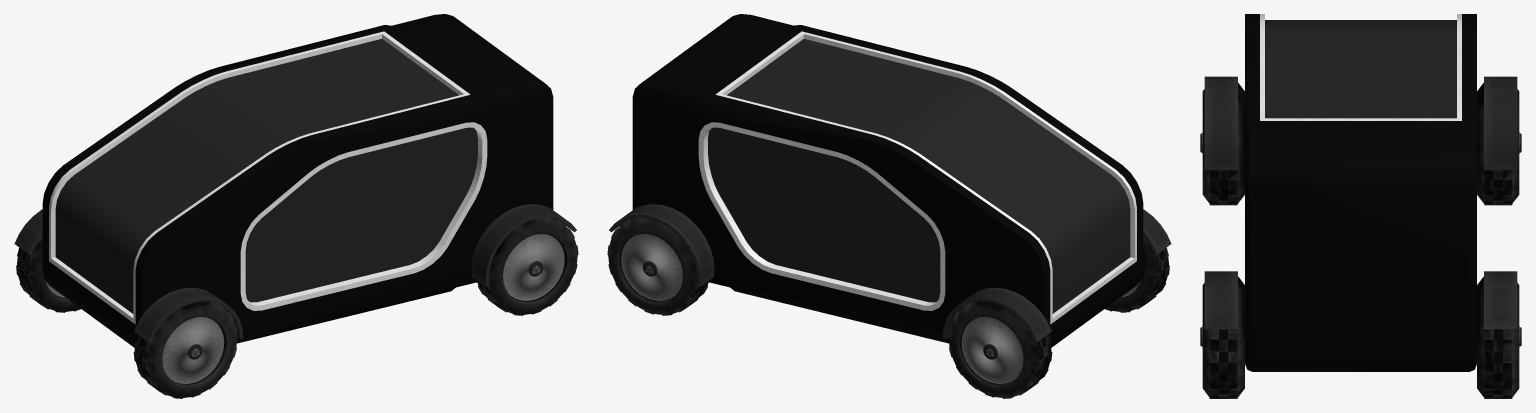
Rendered from CocheNegro.fbx.
3 renders of one model, left to right at view 1: azimuth 30°, elevation 25°; view 2: azimuth 150°, elevation 25°; view 3: azimuth 270°, elevation 25°, orthographic. The views are drawn at different scales.
Parts seen in each view (by area): view 1: defaultMaterial.001; view 2: defaultMaterial.001; view 3: defaultMaterial.001.
Part boxes in pixels (x1,y1,x2,y2): defaultMaterial.001: (14, 14, 578, 398); defaultMaterial.001: (607, 14, 1171, 398); defaultMaterial.001: (1200, 14, 1521, 398).
Size of the model in its own units: 1093 by 517 by 602.
4 materials, 3 textured.
